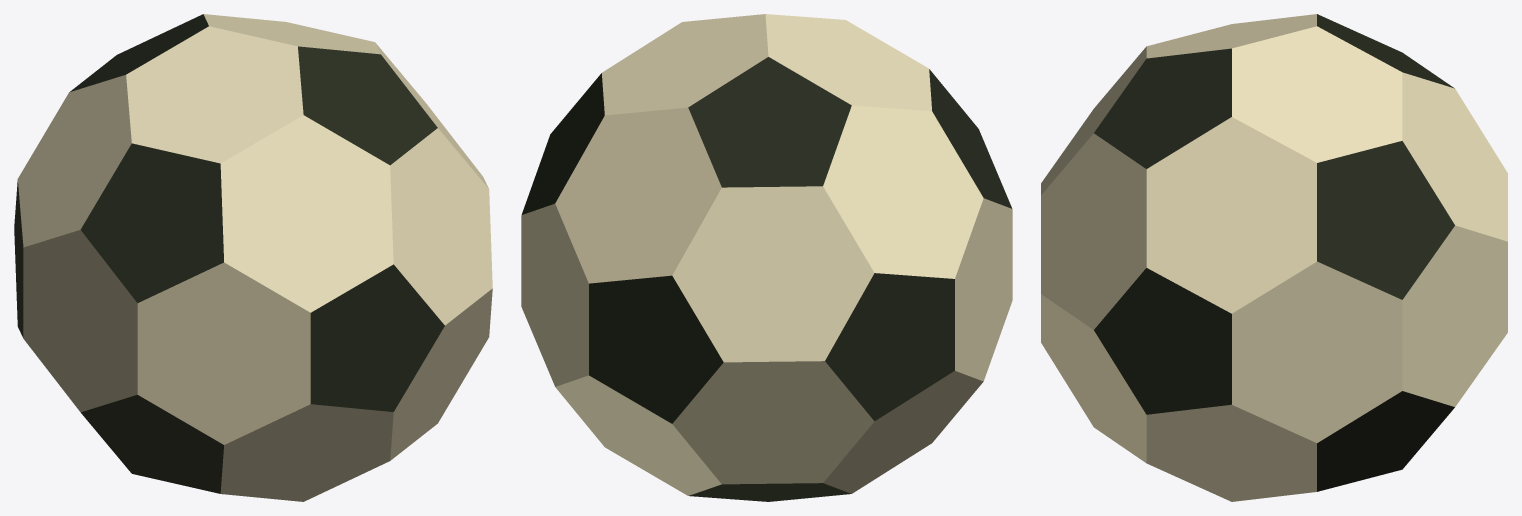
The model's file is football.glb.
The picture shows the model from 3 angles, left to right: view 1: azimuth 30°, elevation 25°; view 2: azimuth 150°, elevation 25°; view 3: azimuth 270°, elevation 25°; orthographic projection.
Parts seen in each view (by area): view 1: football; view 2: football; view 3: football.
Part boxes in pixels (<box>): football: <box>14,14,492,501</box>; football: <box>521,14,1012,501</box>; football: <box>1041,14,1507,501</box>.
Size of the model in its own units: 0.2121 by 0.2155 by 0.2066.
